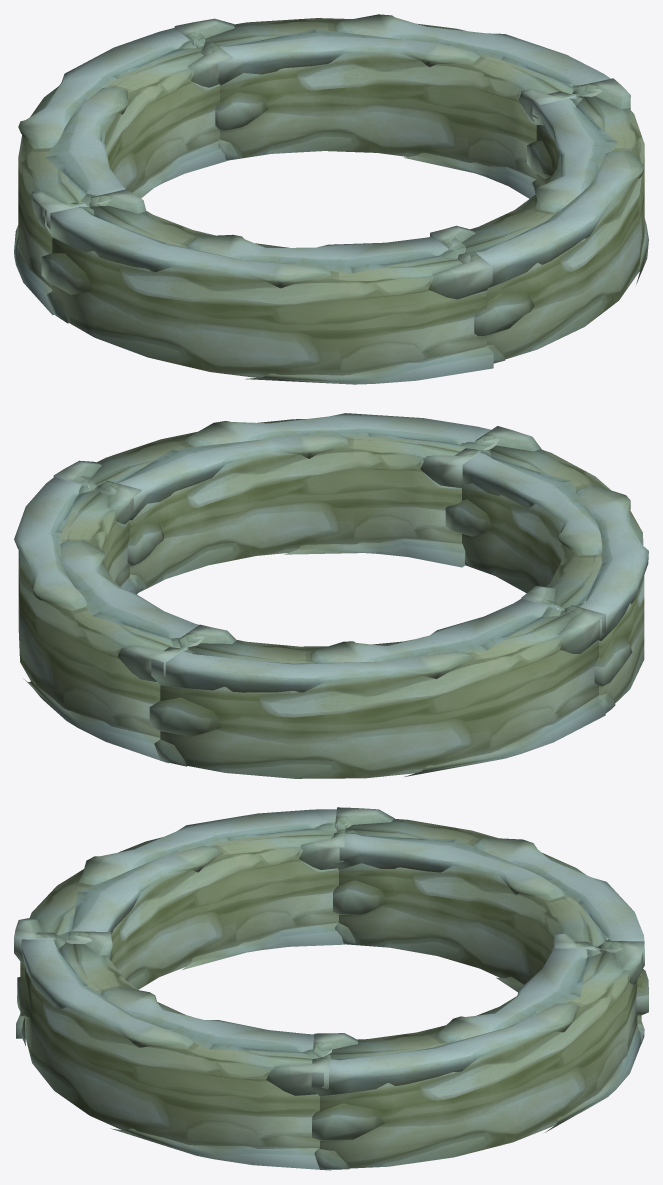
Rendered from Well.fbx.
3 renders of one model, top to bottom at view 1: azimuth 30°, elevation 25°; view 2: azimuth 150°, elevation 25°; view 3: azimuth 270°, elevation 25°, orthographic. The views are drawn at different scales.
Visible parts, largest first — view 1: Well; view 2: Well; view 3: Well.
Boxes of the visible parts, left/top/right/bottom form: Well: left=14, top=14, right=648, bottom=384; Well: left=14, top=413, right=648, bottom=778; Well: left=14, top=807, right=648, bottom=1170.
Bounding box in the file's own units: 6.05 × 1.05 × 6.07.
